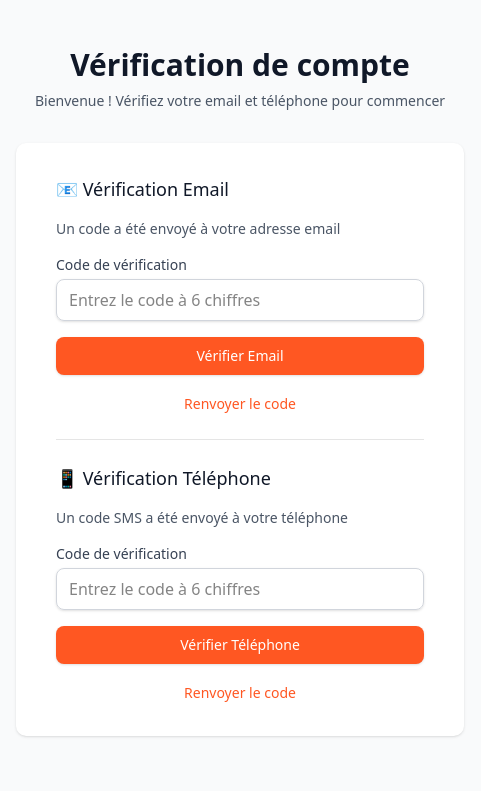
Test: VerifyPage › Phone Verification › should resend phone code
The image size is (481, 791).
Expected: the button "Renvoyer le code" below "📧 Vérification Email" is shown, [56,394,424,414]
Click the button "Renvoyer le code" below "📱 Vérification Téléphone": (240, 692) [56,682,424,702]
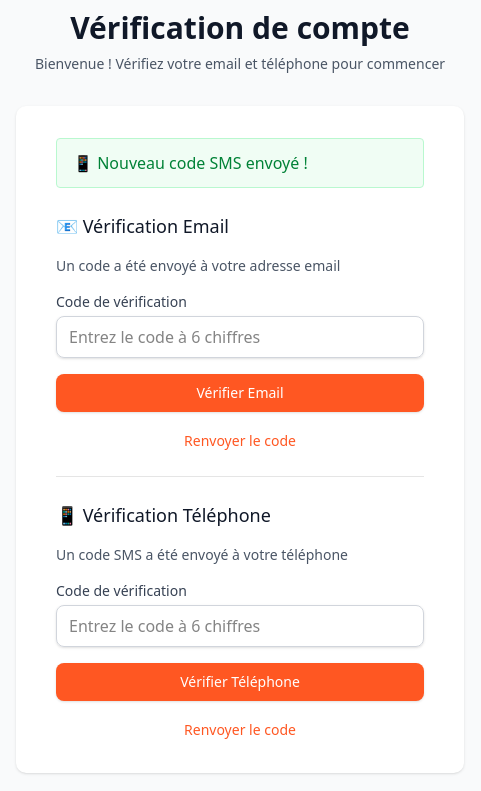
Now the text "📱 Nouveau code SMS envoyé !" is shown, box [56,138,424,188]
